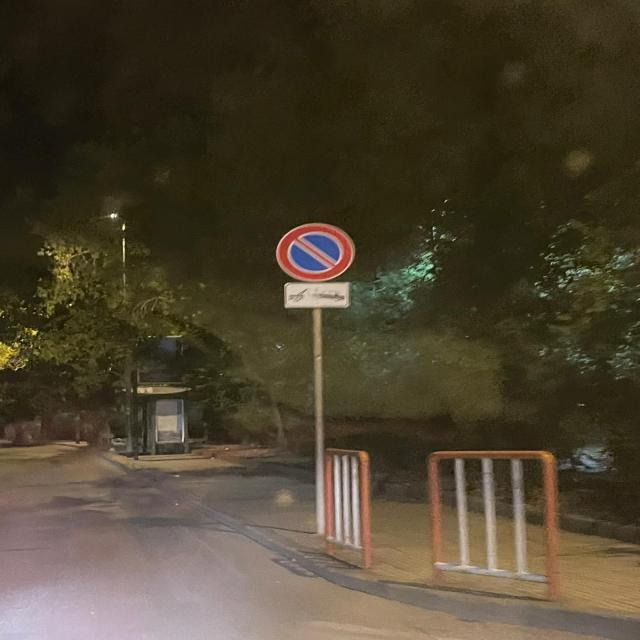forb_stopping: (276, 223, 356, 283)
